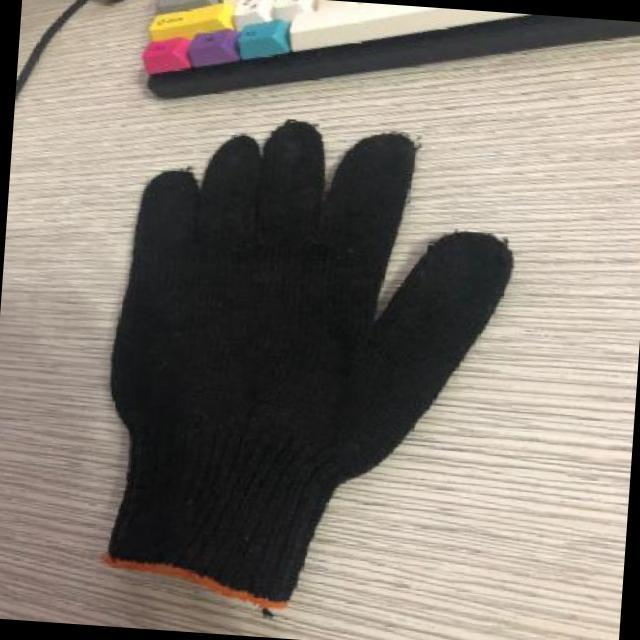glove: (99, 112, 514, 611)
